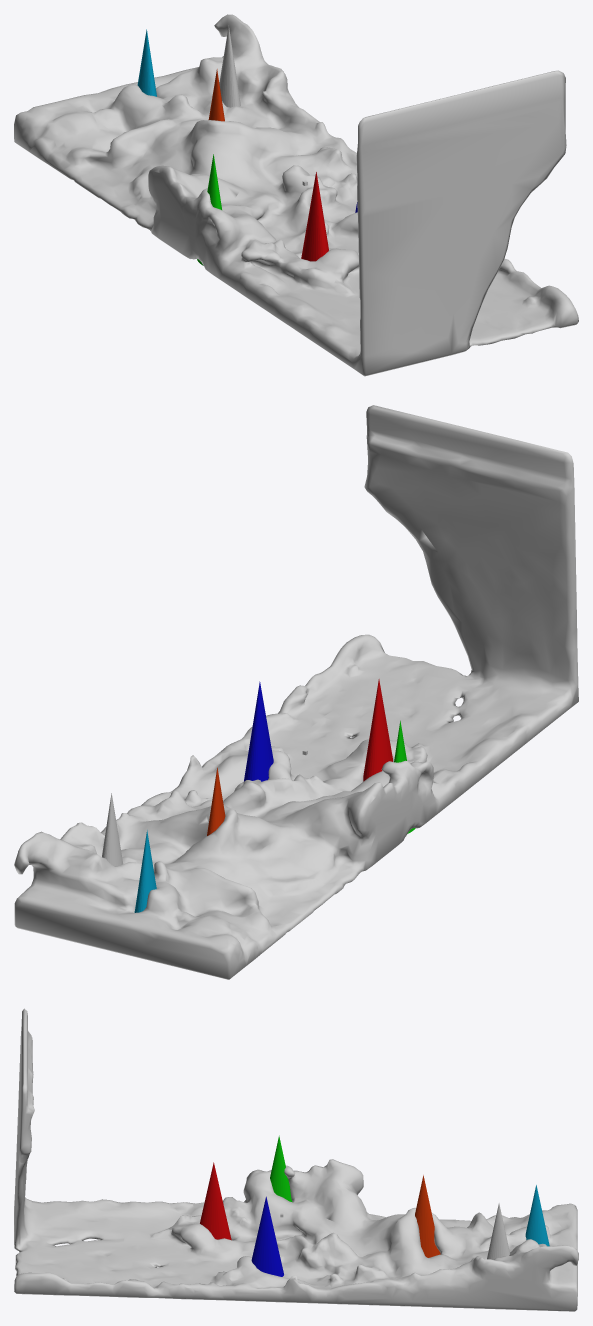
3 views of the same model, one above another, from view 1: azimuth 30°, elevation 25°; view 2: azimuth 150°, elevation 25°; view 3: azimuth 270°, elevation 25° (orthographic). The views are drawn at different scales.
Parts seen in each view (by area): view 1: Liquid_Domain, 円錐.001, 円錐, 円錐.005, 円錐.004; view 2: Liquid_Domain, 円錐.002, 円錐.001, 円錐.005, 円錐; view 3: Liquid_Domain, 円錐.002, 円錐.001, 円錐.004, 円錐.005, 円錐.003, 円錐.
Boxes of the visible parts, box(x1,y1,x2,y2) form: Liquid_Domain: box(14, 14, 578, 376); 円錐.001: box(301, 172, 328, 261); 円錐: box(219, 25, 240, 107); 円錐.005: box(137, 29, 156, 96); 円錐.004: box(208, 69, 224, 121); Liquid_Domain: box(14, 405, 578, 979); 円錐.002: box(244, 681, 273, 781); 円錐.001: box(363, 679, 392, 781); 円錐.005: box(134, 830, 156, 912); 円錐: box(102, 793, 123, 866); Liquid_Domain: box(14, 1008, 578, 1311); 円錐.002: box(251, 1196, 283, 1276); 円錐.001: box(200, 1162, 231, 1240); 円錐.004: box(415, 1175, 440, 1257); 円錐.005: box(525, 1185, 549, 1246); 円錐.003: box(270, 1135, 292, 1202); 円錐: box(487, 1203, 509, 1259).
Bounding box in the file's own units: 129 × 158 × 362.
